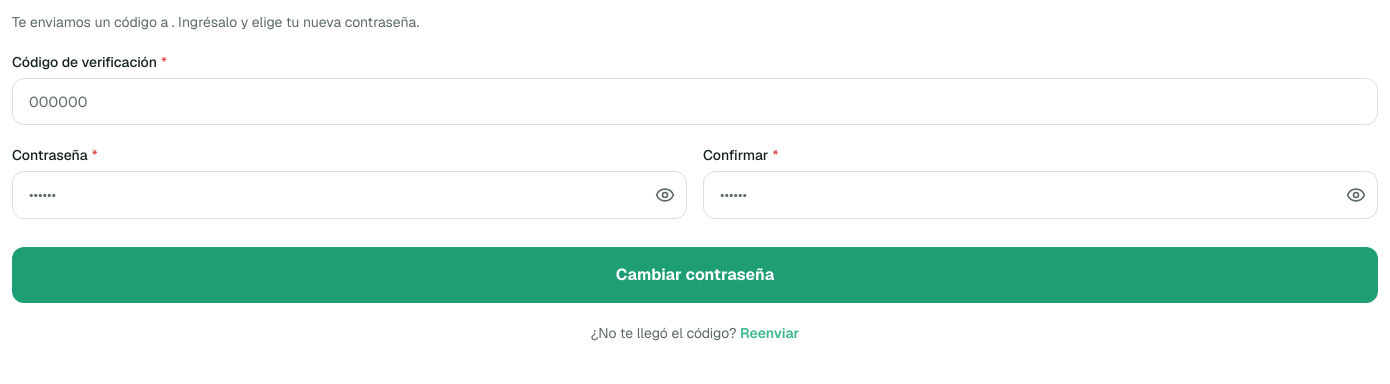
Test: ResetPasswordForm › shows a mismatch error and does not submit when passwords differ
The width and height of the screenshot is (1390, 384).
Type "424242" into the field labelled "Código de verificación *". click: x=695, y=102
box: [12,78,1378,125]
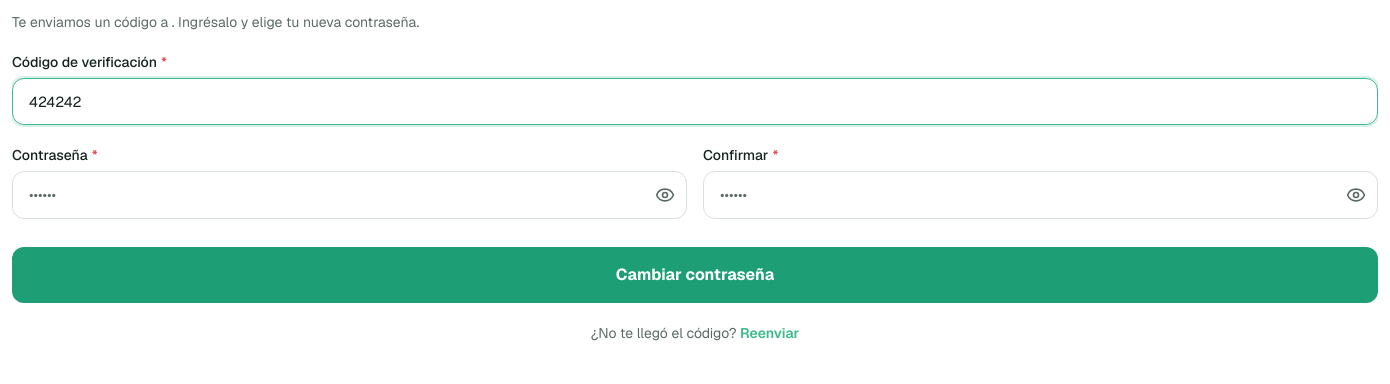
Type "supersecret" into the password field labelled "Contraseña *". click: x=350, y=195
box: [12,171,687,219]
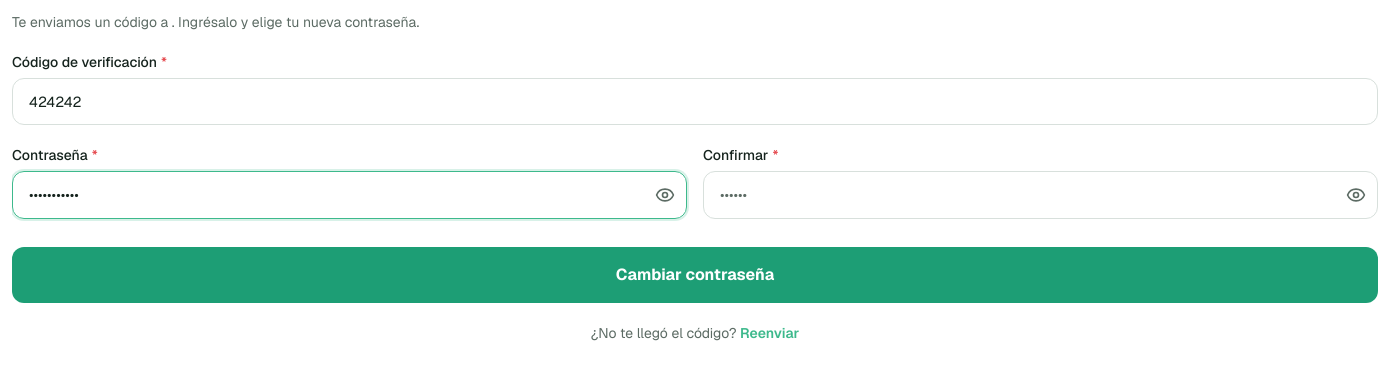
Type "different" into the password field labelled "Confirmar *". click: x=1040, y=195
box: [703,171,1378,219]
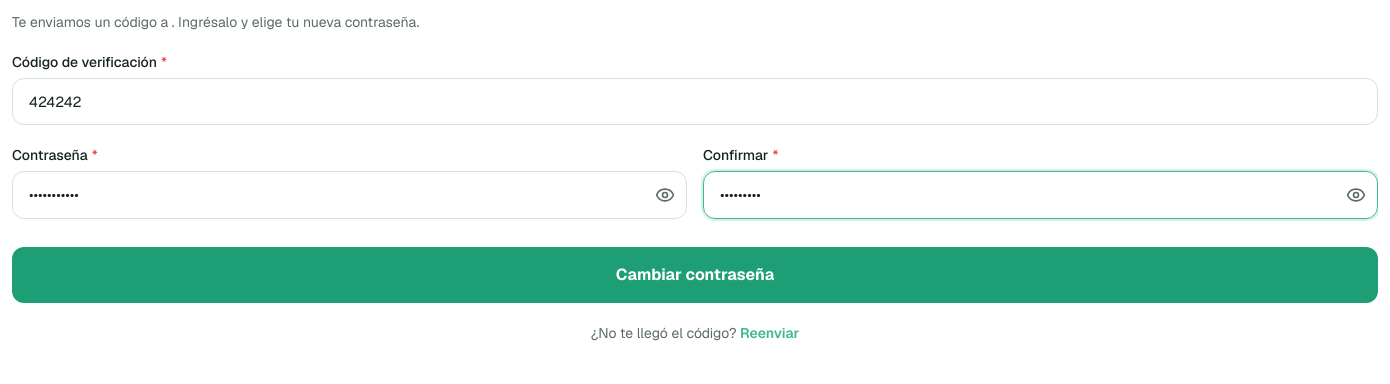
Click the button "Cambiar contraseña". click: x=695, y=275
box: [12,247,1378,303]
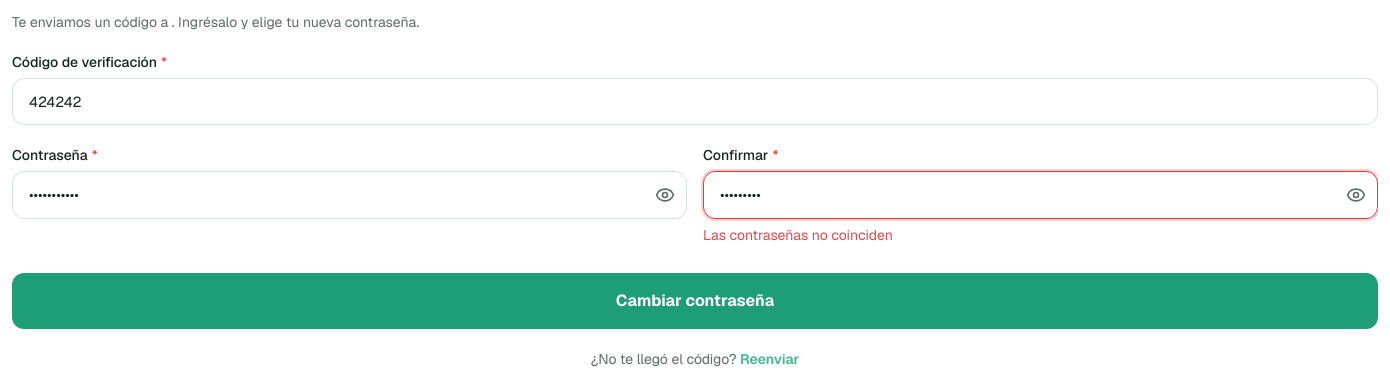
Check: the text "Las contraseñas no coinciden" is shown, box [703,226,893,244]
